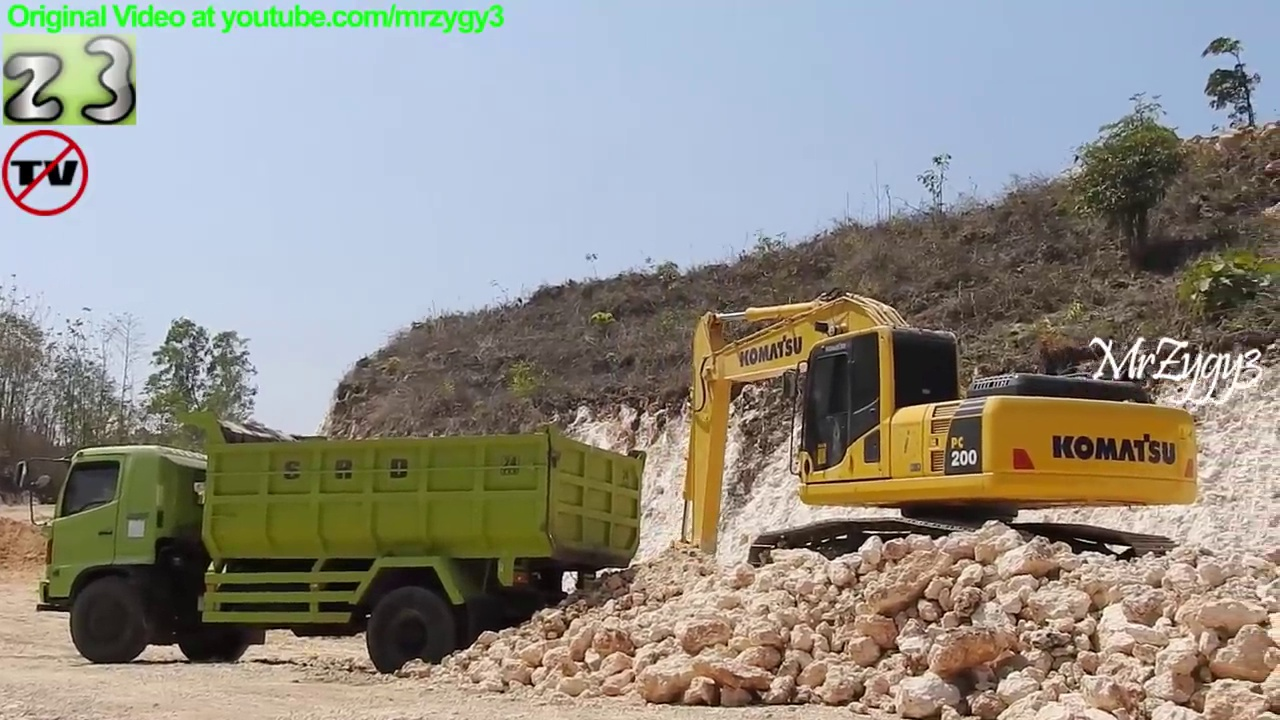excavator: (657, 285, 1207, 626)
truck: (9, 403, 654, 682)
